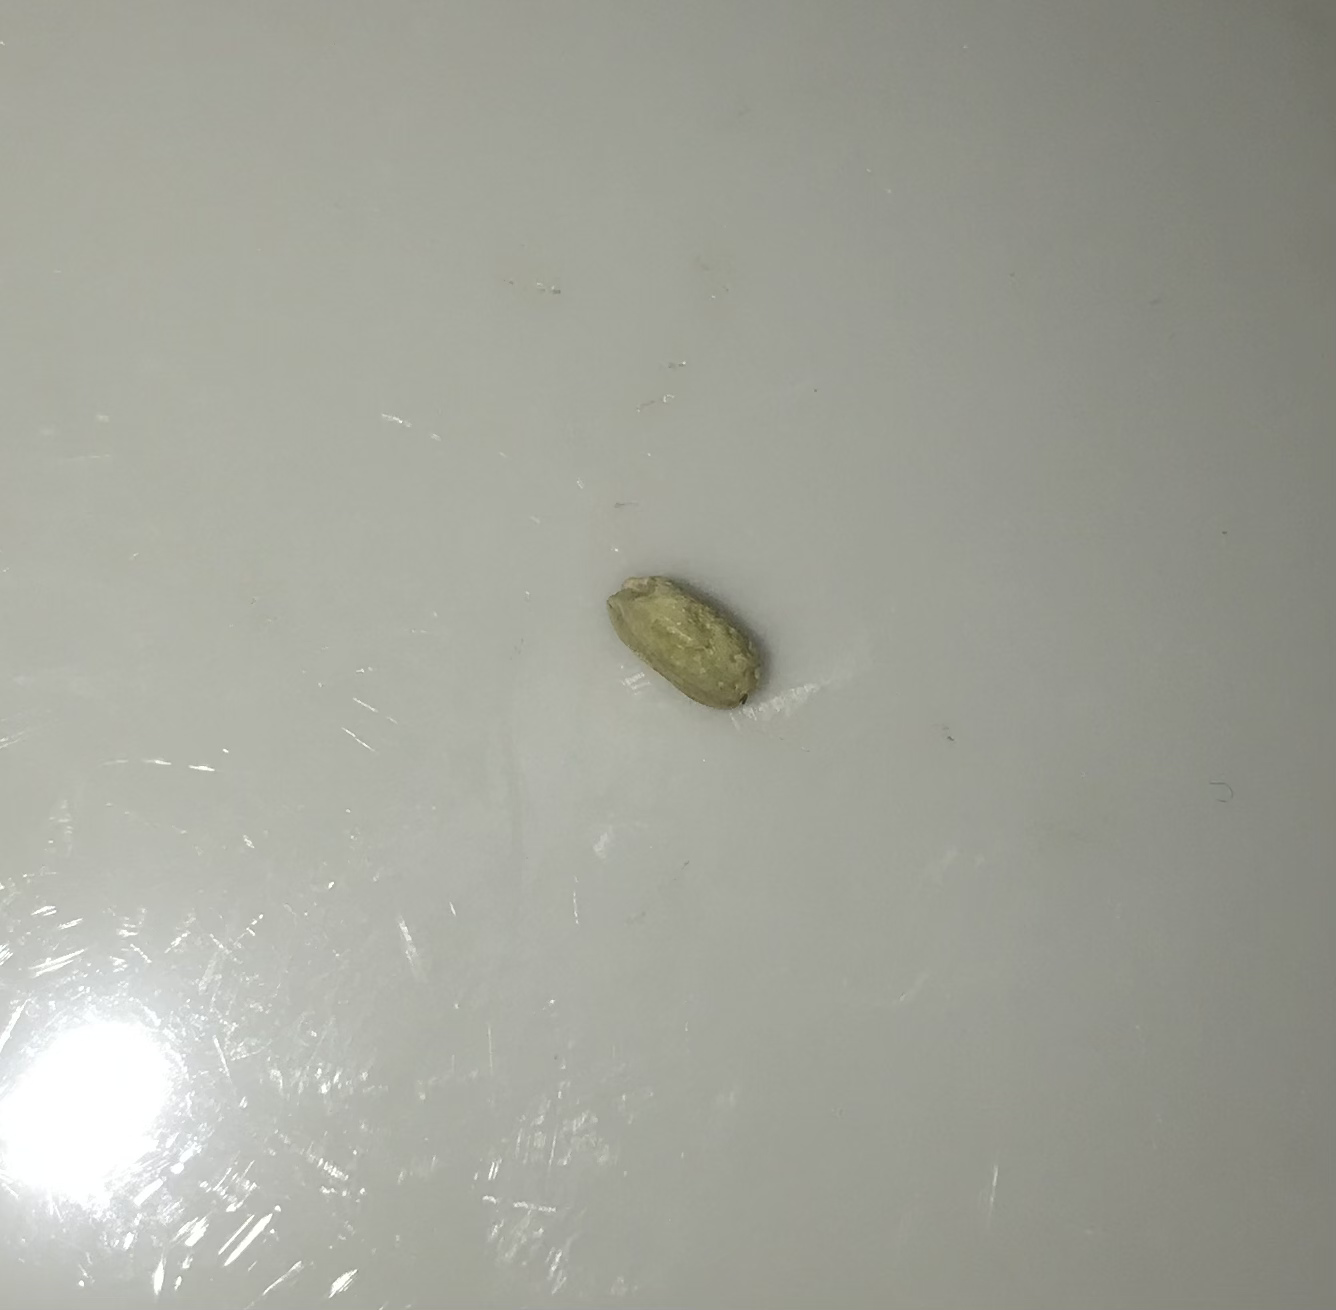Gao Lut Bac: (598, 570, 775, 715)
